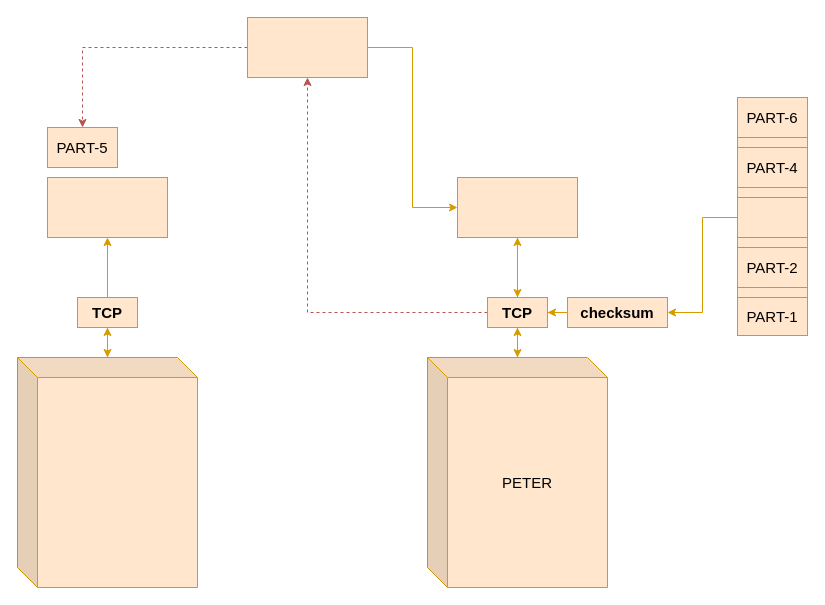
Some shapes in this 825 by 605 pixel diagram are drawn without their labels. The box of each missing label's shape, as (x1, y1, x2, y2) in pixels:
ANNE: (16, 356, 198, 588)
GATEWAY SHARE: (246, 16, 368, 78)
MISHARE: (456, 176, 578, 238)
PART-3: (736, 196, 808, 238)
SHAREON: (46, 176, 168, 238)
